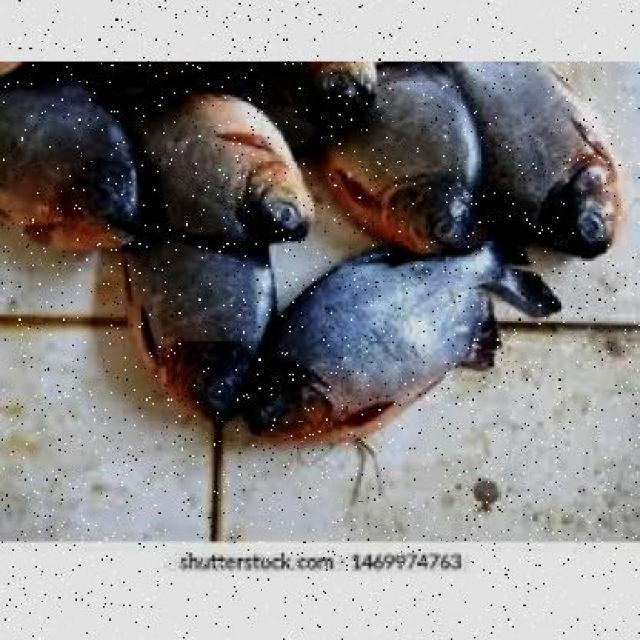ikan-pacu: (252, 228, 511, 440), (128, 77, 322, 240), (308, 59, 488, 233), (125, 229, 262, 423)
